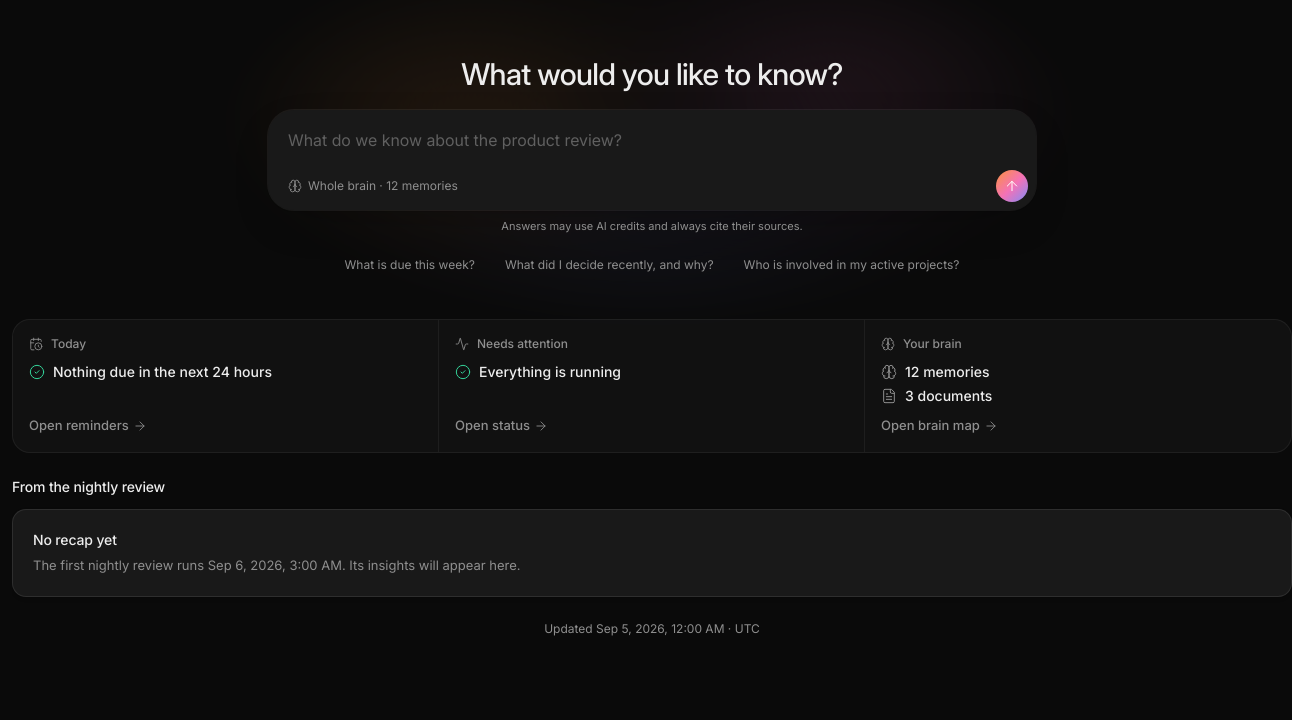
answers from the home question box and cancels a stale request
The image size is (1292, 720).
Type "First question" into the text box labelled "What would you like to know?" at (652, 144), box [276,118,1028,170]
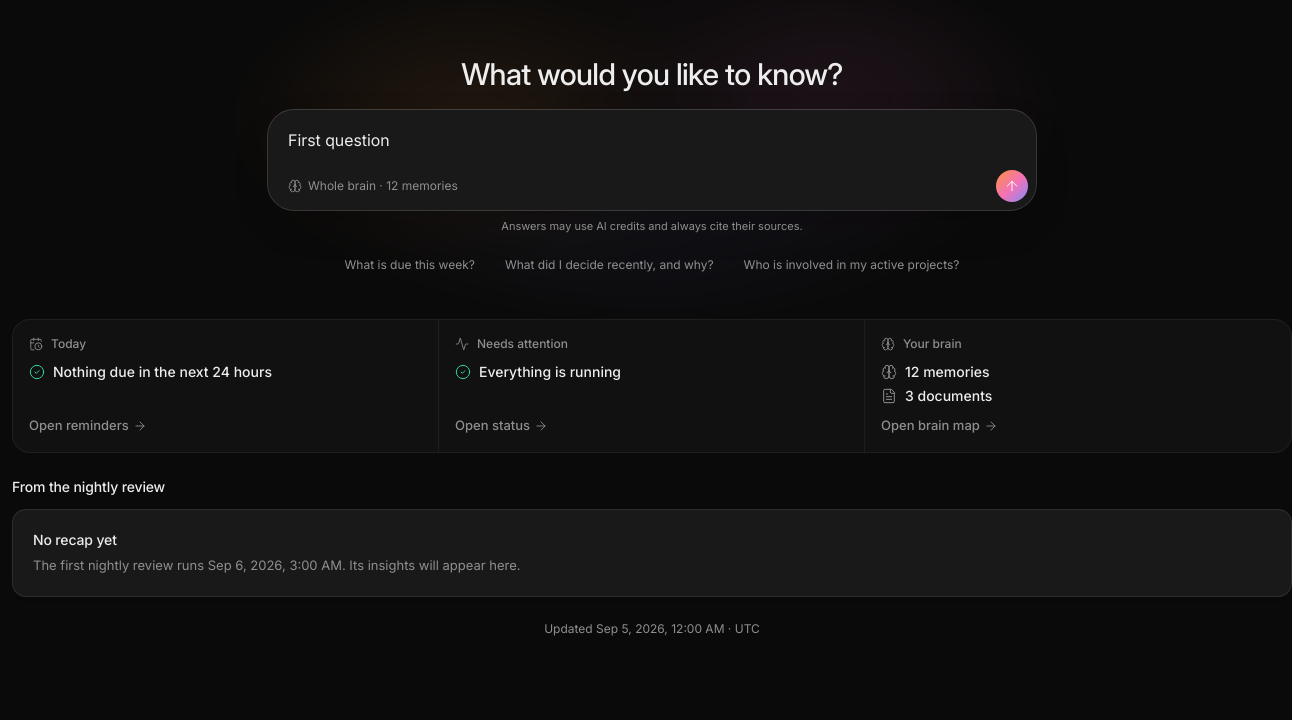
Click the button named "Ask" at (1012, 186), box [996,170,1028,202]
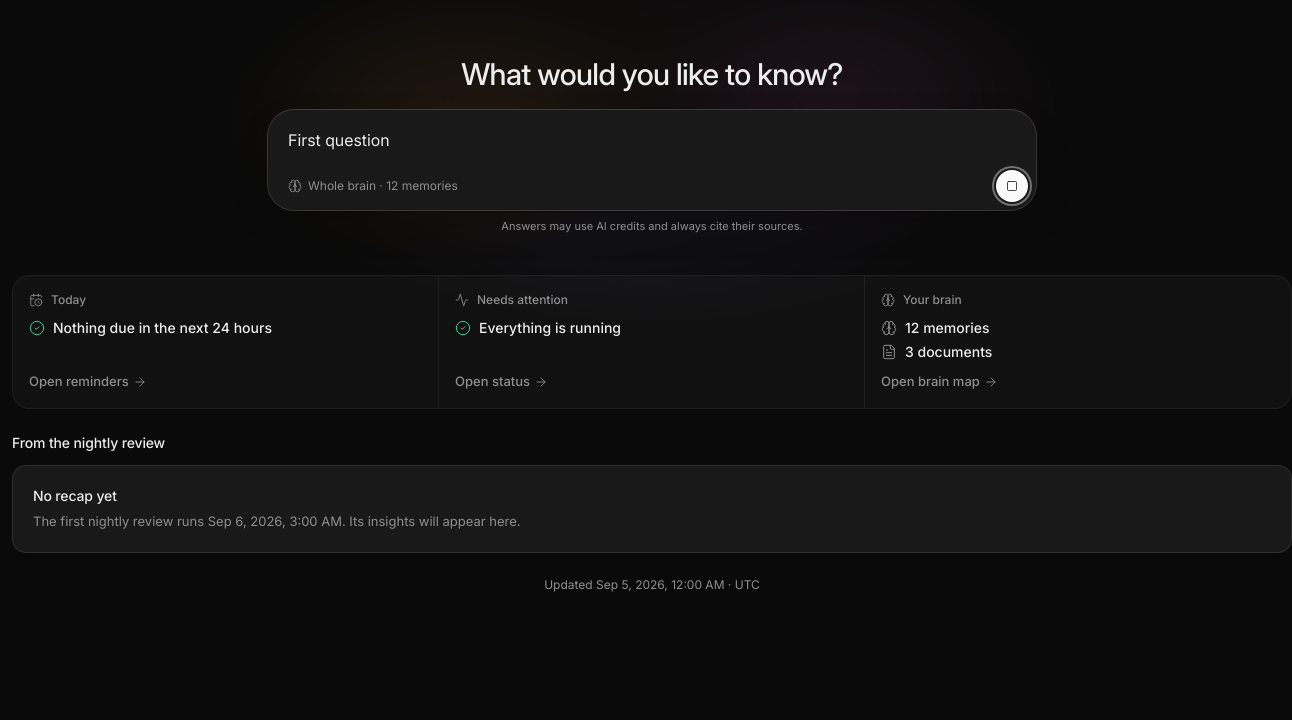
Click the button named "Stop" at (1012, 186), box [996,170,1028,202]
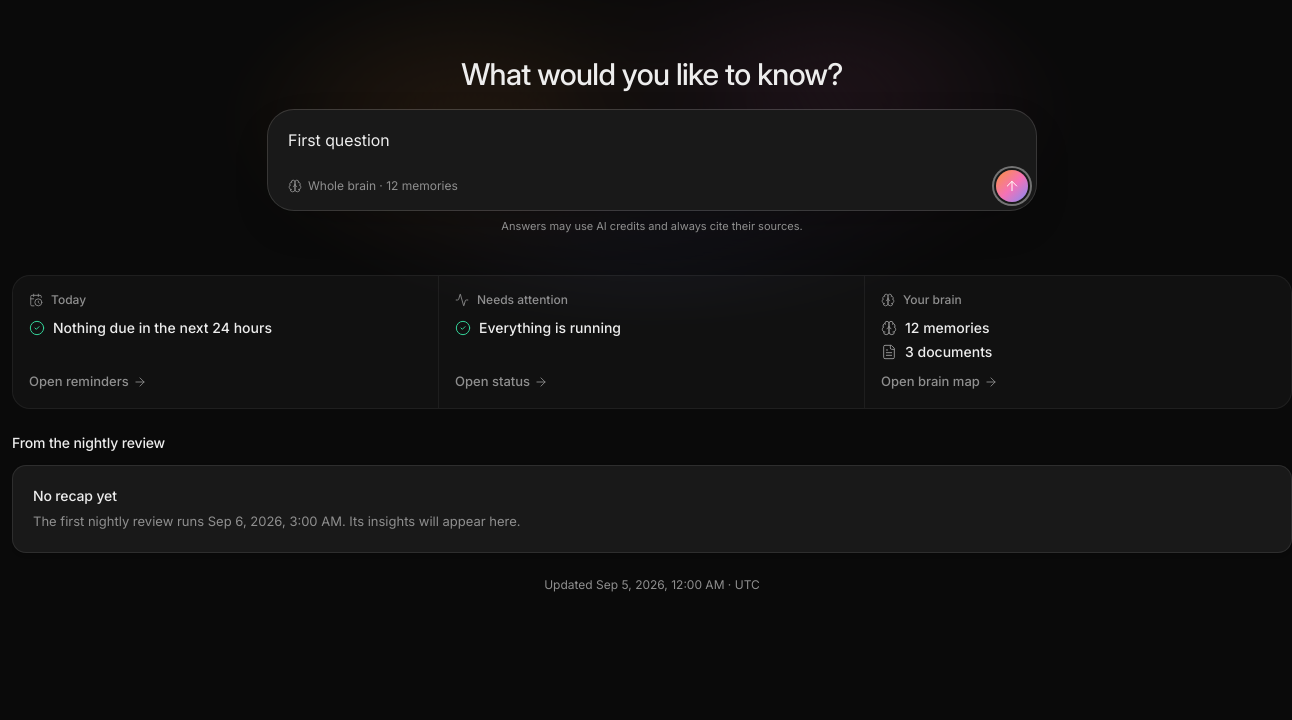
Replace the text in the text box labelled "What would you like to know?" with "When is the review?" at (652, 144), box [276,118,1028,170]
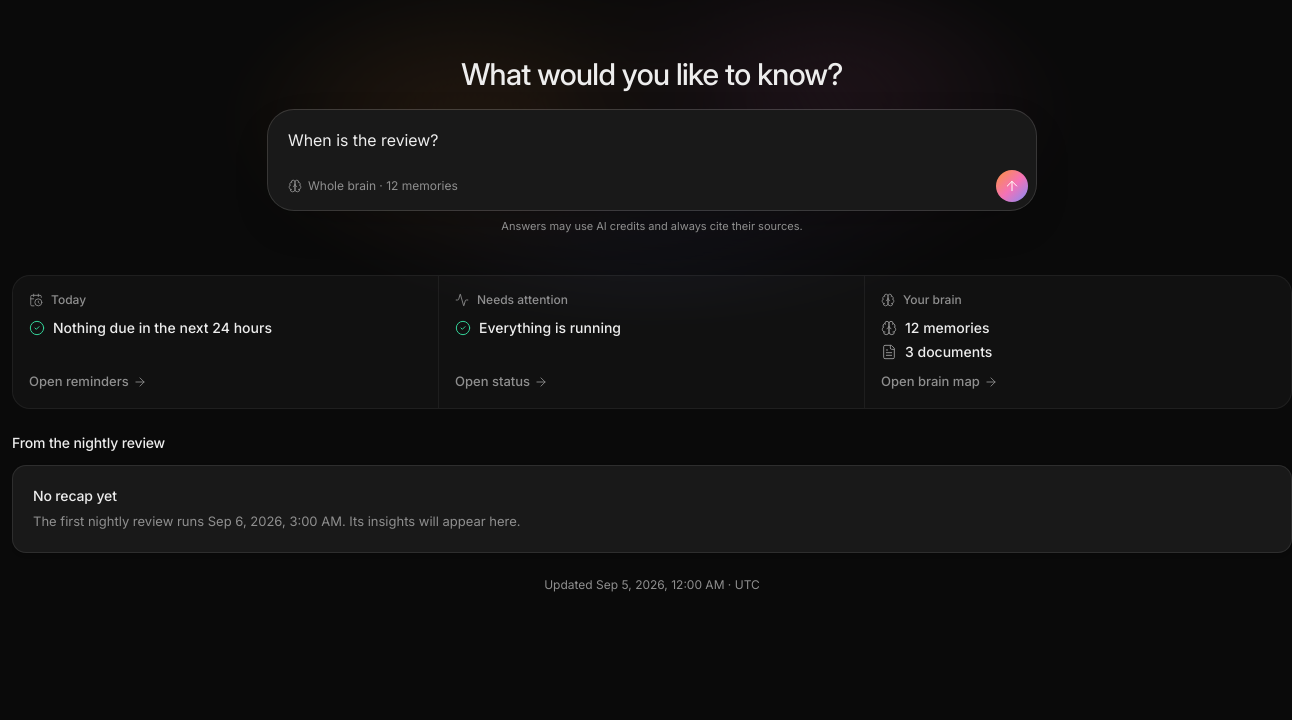
Click the button named "Ask" at (1012, 186), box [996,170,1028,202]
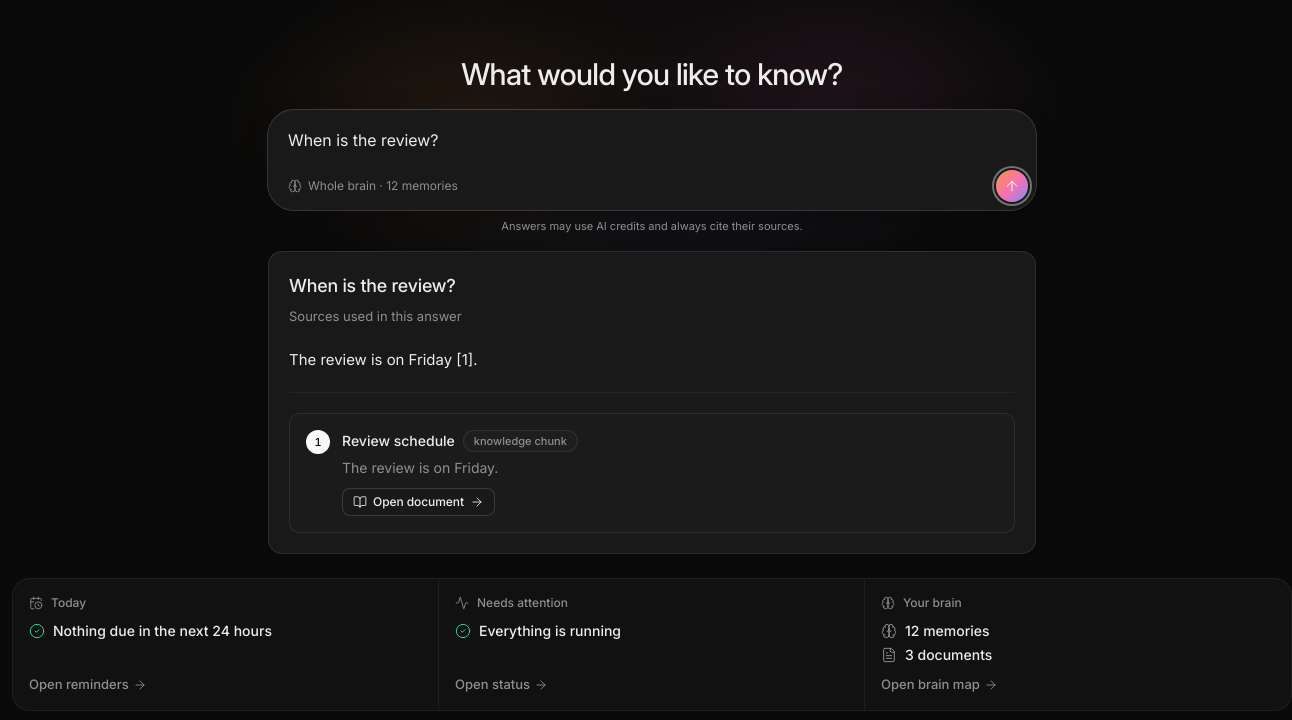
Check: the text "The review is on Friday [1]." is shown, box [289,350,477,368]
